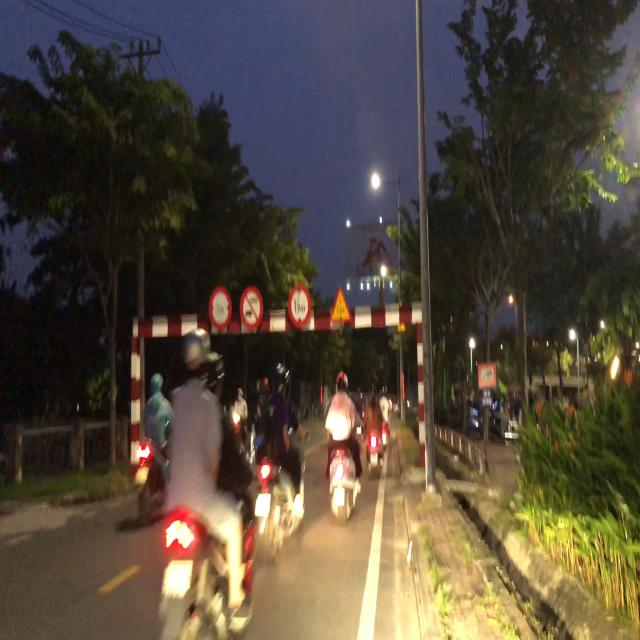Bien bao cam xe oto khach va xe oto tai: (235, 282, 265, 330)
Bien bao chieu cao tinh khong thuc te: (329, 278, 357, 325)
Bien bao han che chieu cao: (284, 278, 314, 331)
